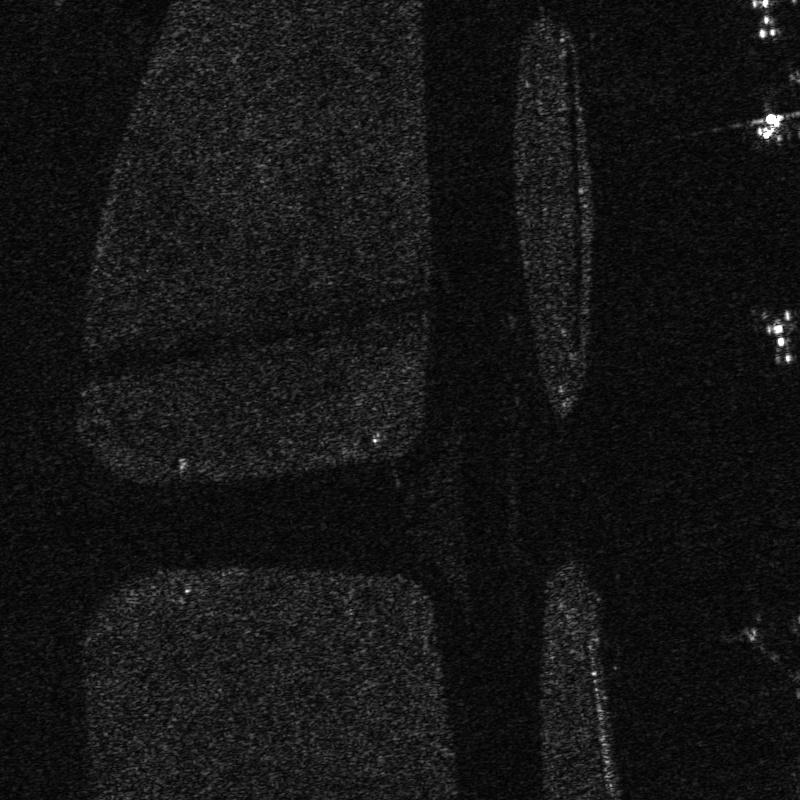ARJ21: (747, 98, 799, 144)
